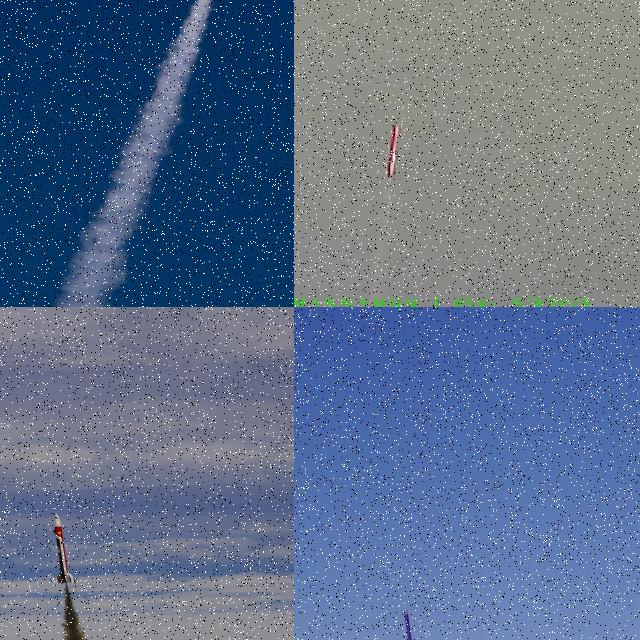Rocket: (52, 512, 78, 584), (386, 124, 401, 178), (404, 605, 419, 640)
